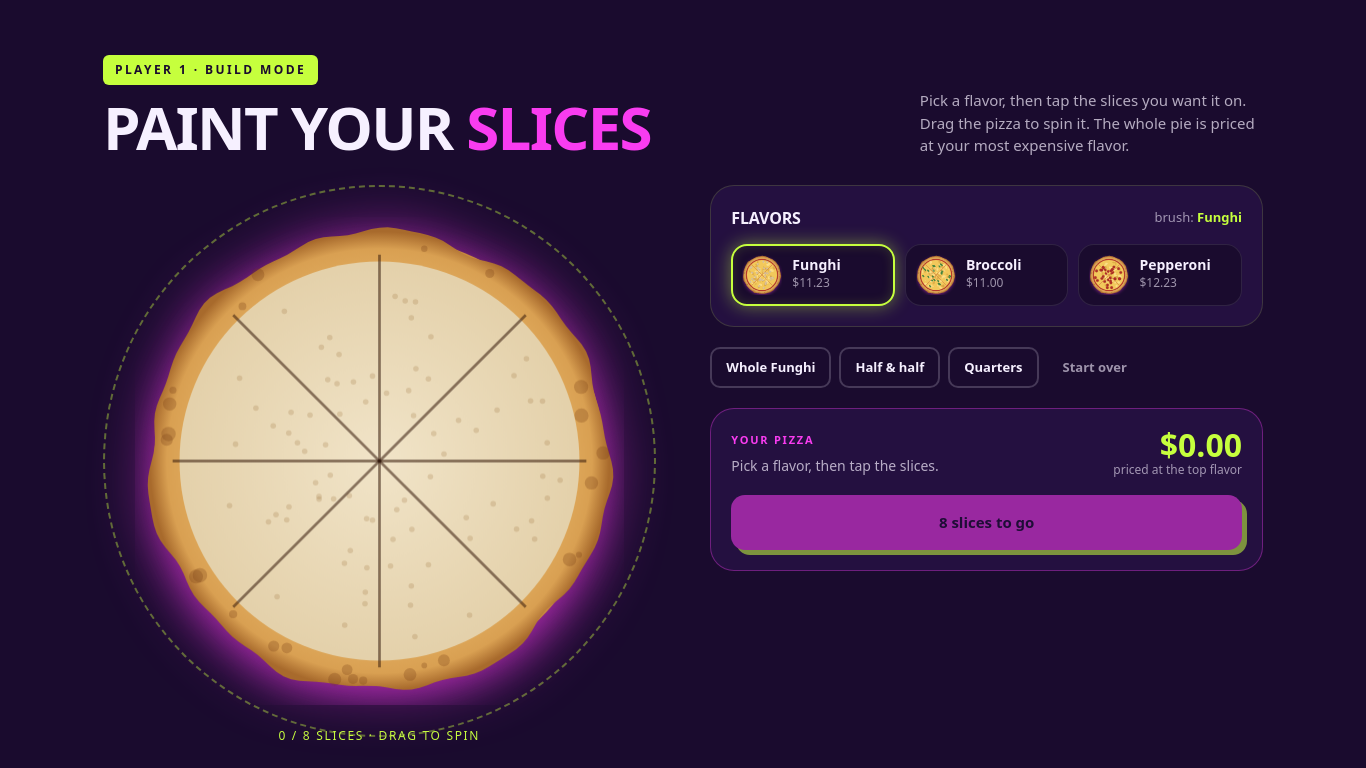
it: <Builder> › adds a single-flavor pie as the menu pizza so it merges with a menu row
Step 1. Click the button "Whole Funghi" → (771,367), box x1=710 y1=347 x2=832 y2=388
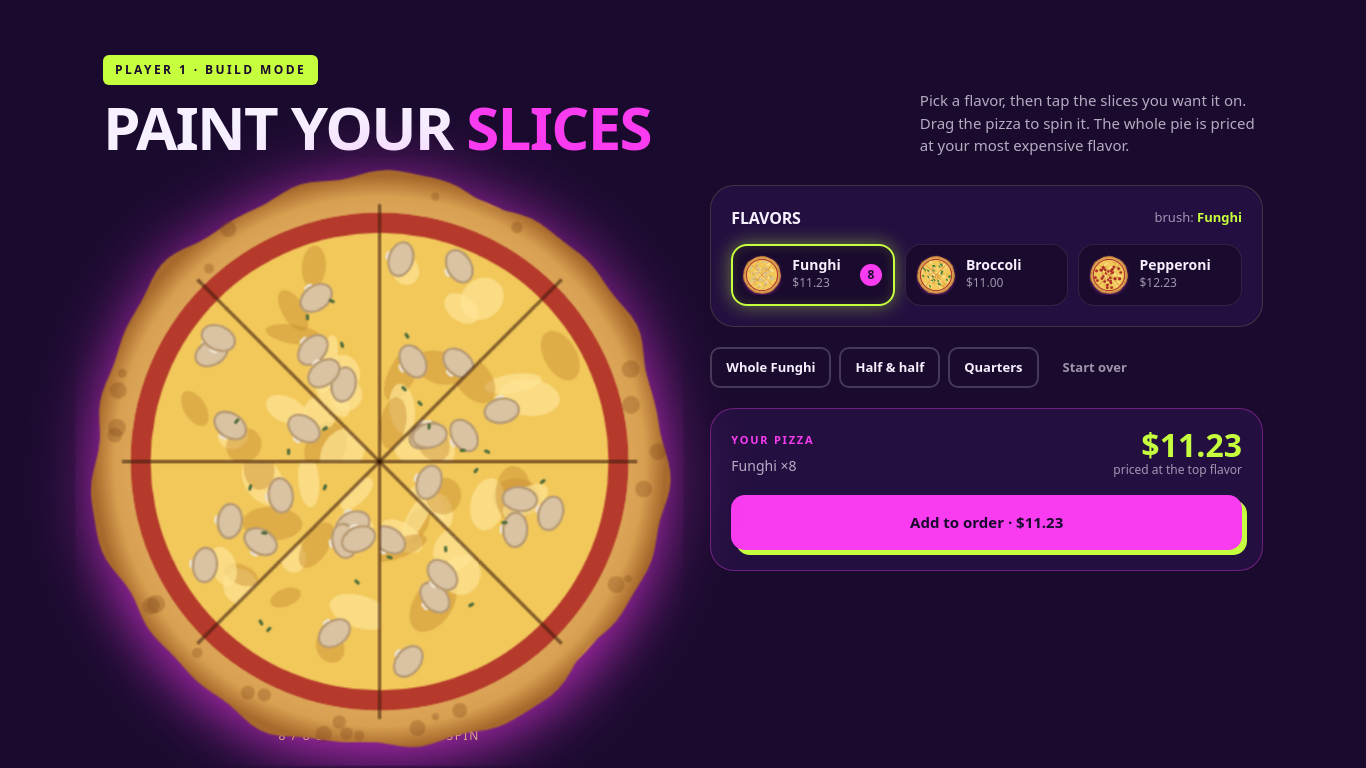
Step 2. Click the button "Add to order · $11.23" → (987,522), box x1=731 y1=495 x2=1242 y2=550
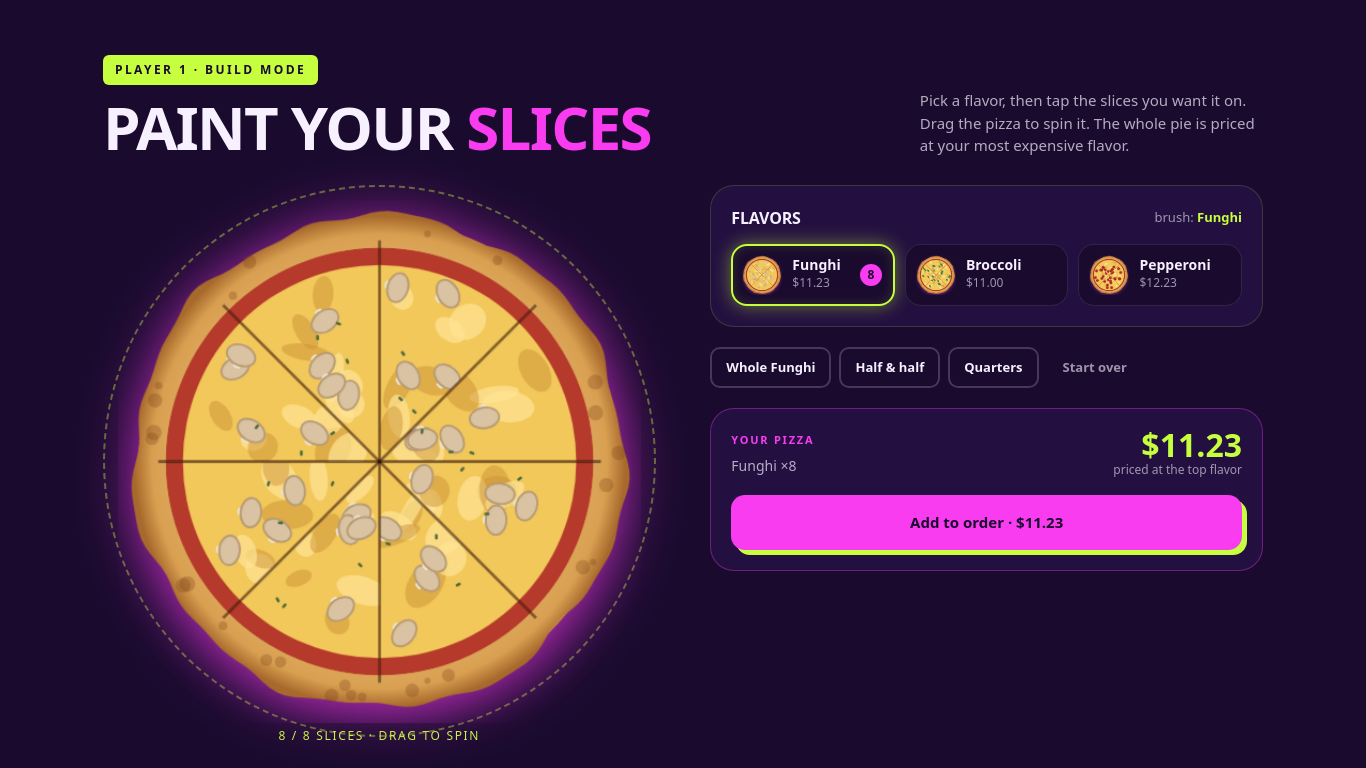
Adding the same whole pie again bumps the quantity instead of adding a row.
Step 3. Click the button "Add to order · $11.23" → (987,522), box x1=731 y1=495 x2=1242 y2=550
(page scrolled)
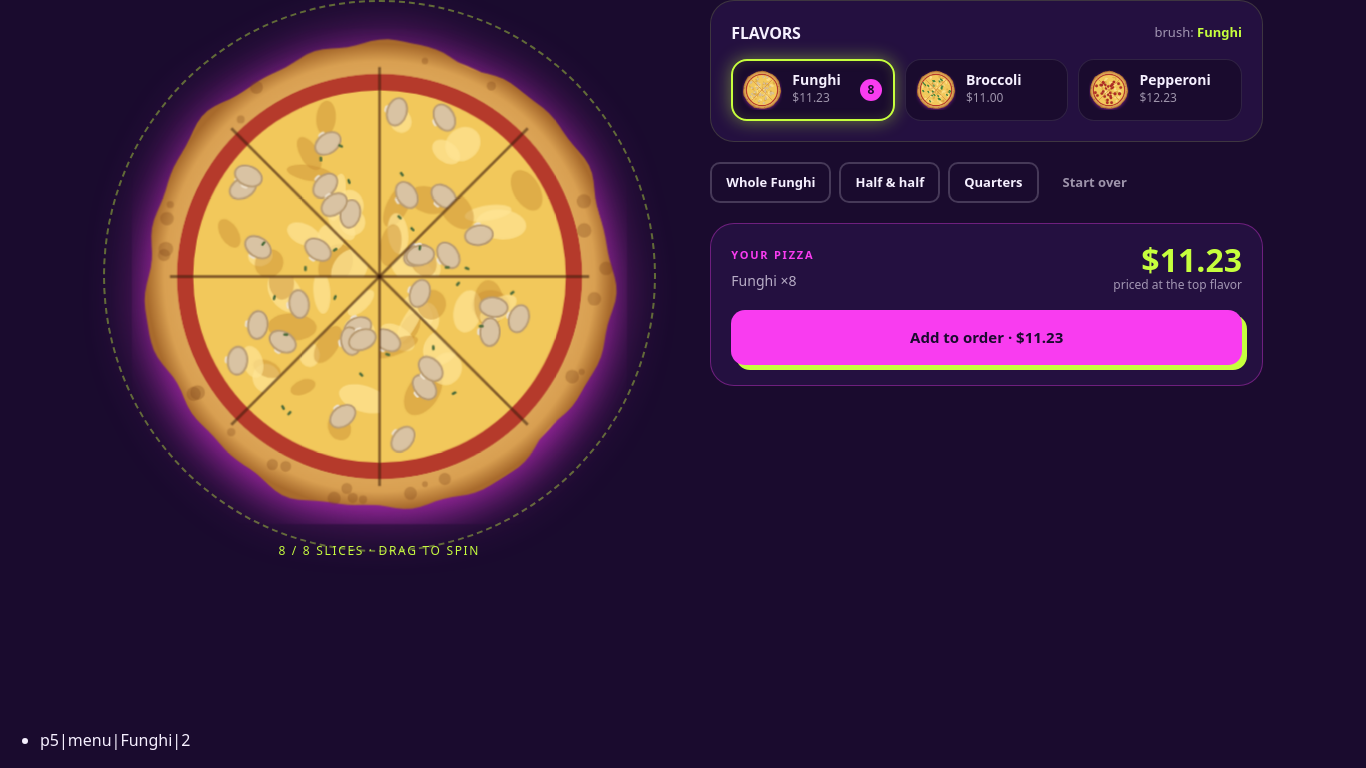
Now the list with test id "cart" reads "p5|menu|Funghi|2", box x1=40 y1=729 x2=59 y2=751
